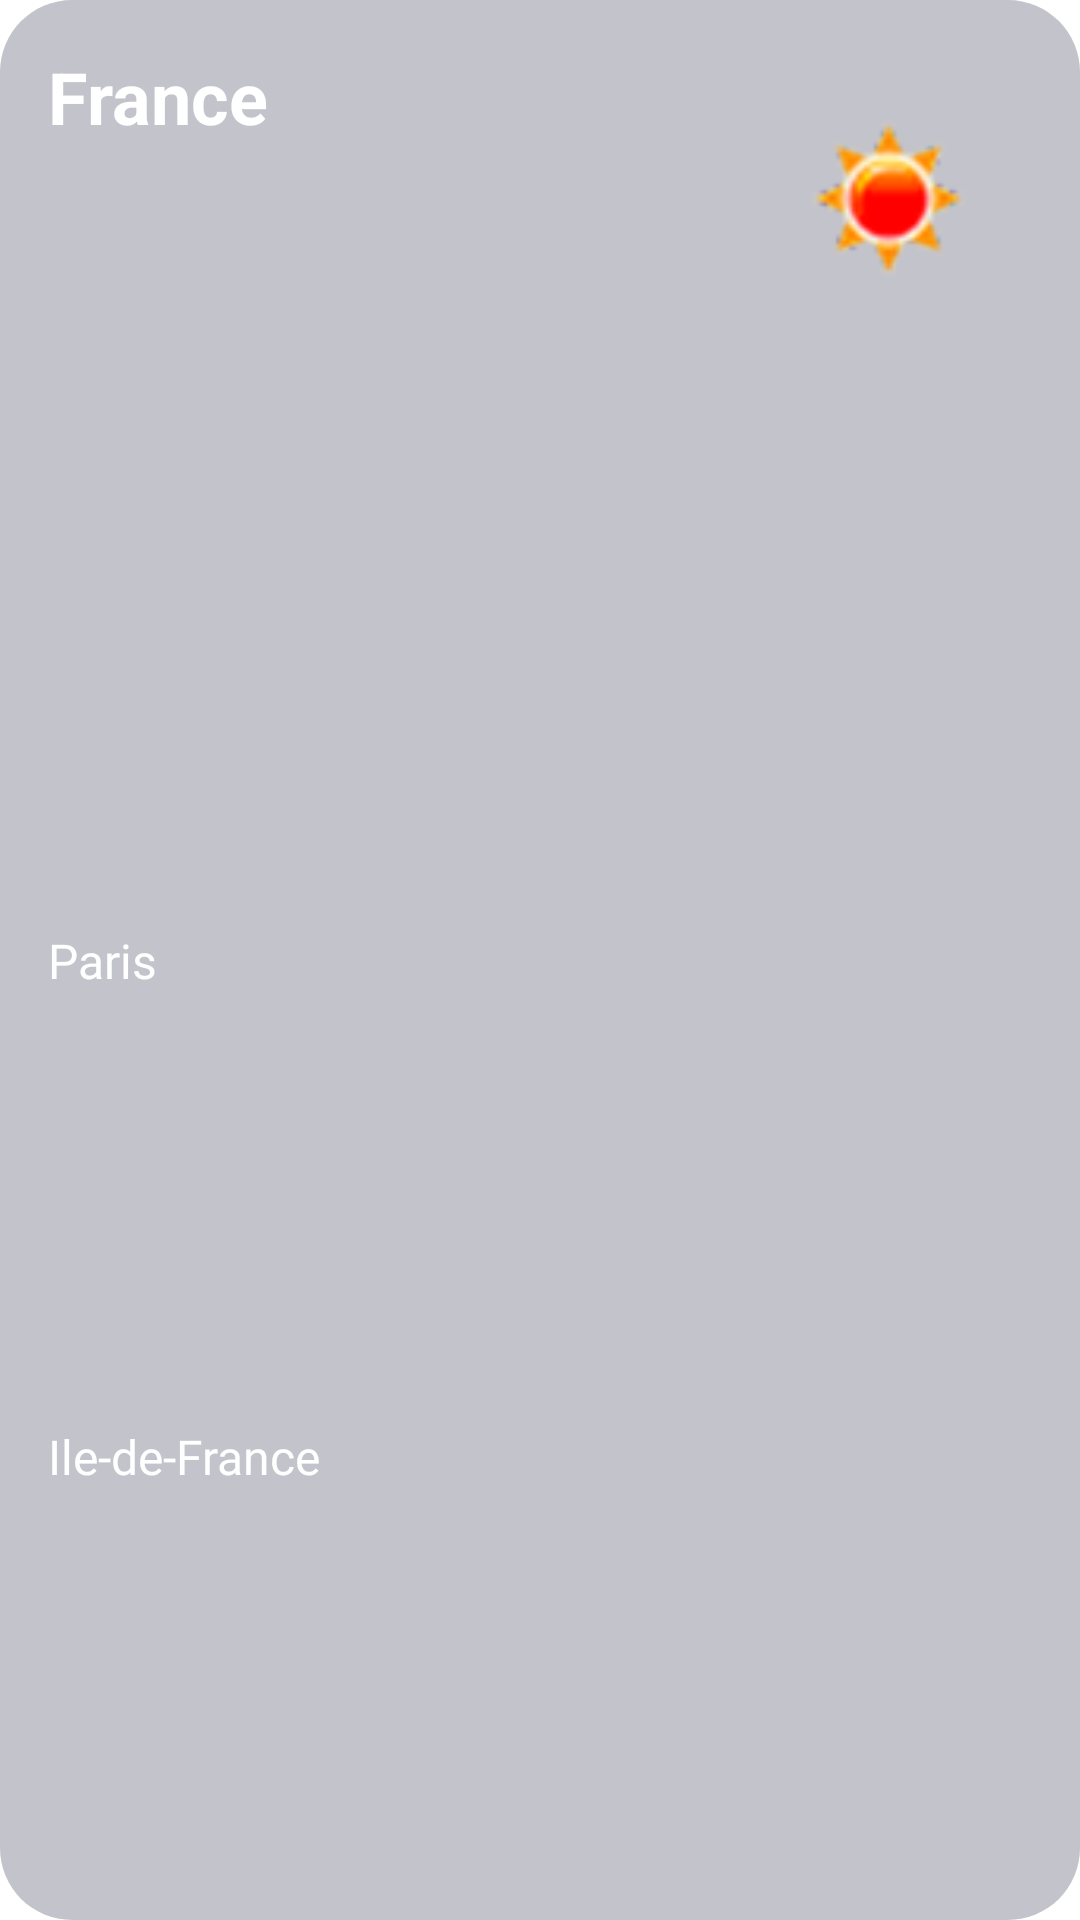

Where icons sit on this 1080w x 1920h app screen, as rect(x1, y1, x2, y2):
sun: rect(816, 126, 961, 272)
